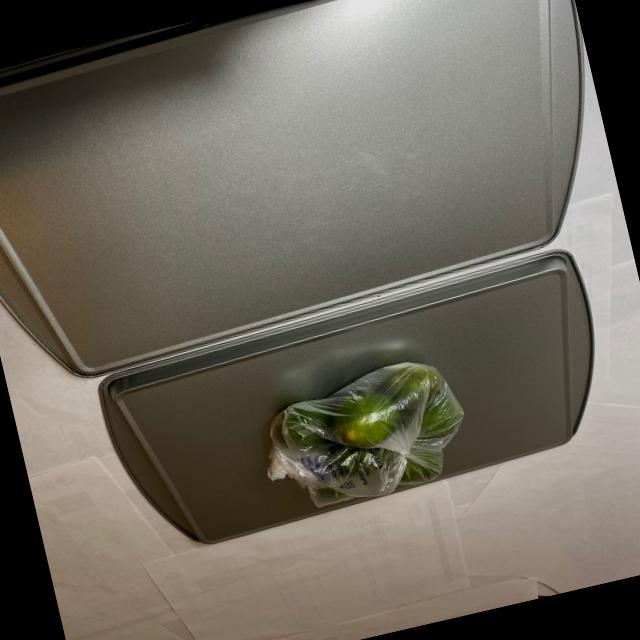lemon: (257, 356, 469, 515)
